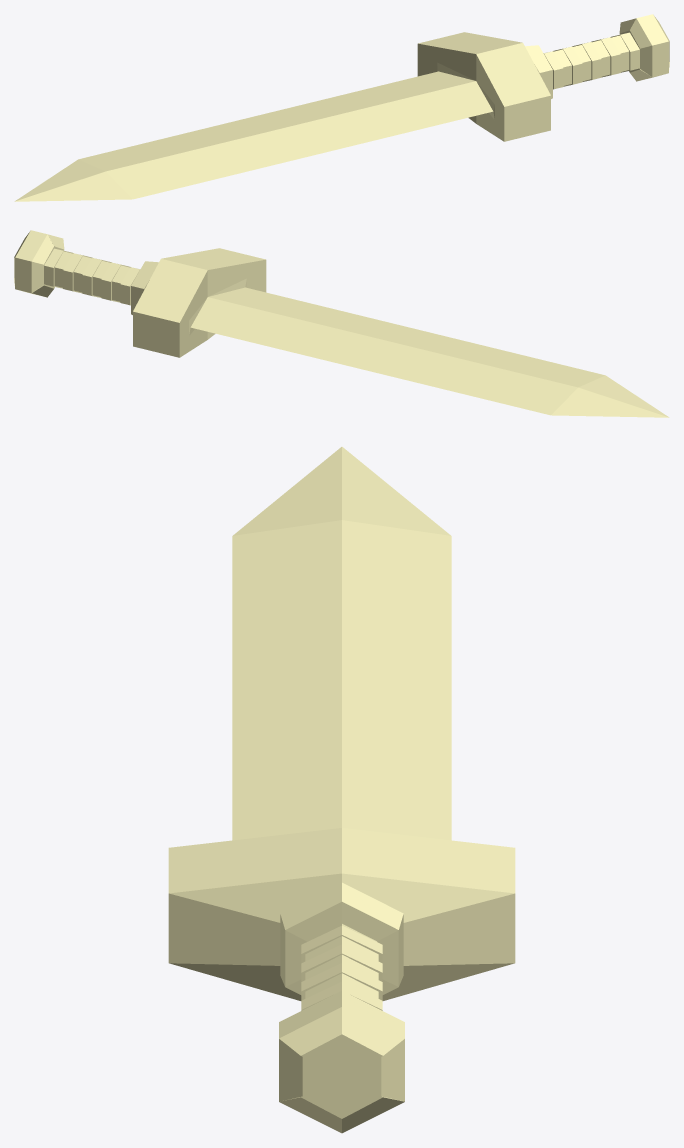
File: longsword_emmisive.fbx
The picture shows the model from 3 angles, top to bottom: view 1: azimuth 30°, elevation 25°; view 2: azimuth 150°, elevation 25°; view 3: azimuth 270°, elevation 25°; orthographic projection. The views are drawn at different scales.
Parts seen in each view (by area): view 1: Sword; view 2: Sword; view 3: Sword.
Part boxes in pixels (left/top/right/bottom): Sword: left=14, top=14, right=669, bottom=201; Sword: left=14, top=230, right=669, bottom=417; Sword: left=168, top=447, right=515, bottom=1133.
Bounding box in the file's own units: 2496 × 258 × 580.
